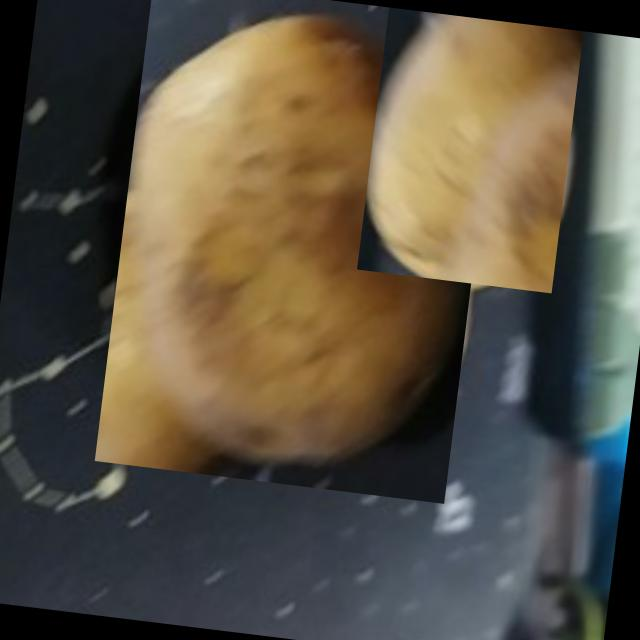Damaged potato: (94, 0, 503, 502)
Potato: (356, 6, 584, 292)
